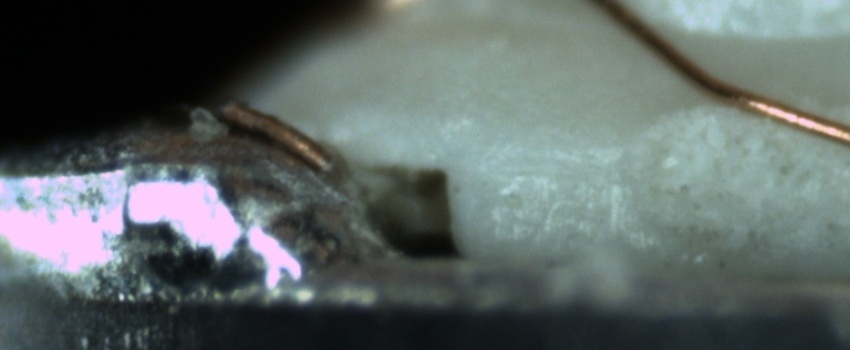DL: (491, 141, 622, 196)
